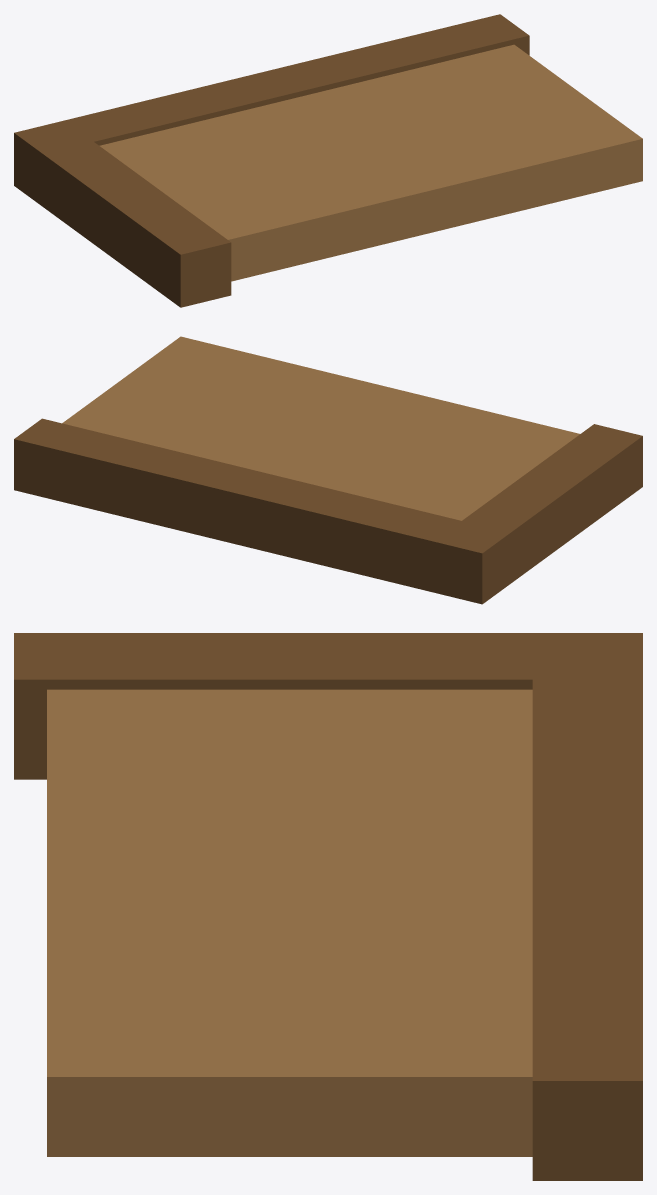
The model's file is poi_tagged_crate_piece_c.glb.
The picture shows the model from 3 angles, top to bottom: view 1: azimuth 30°, elevation 25°; view 2: azimuth 150°, elevation 25°; view 3: azimuth 270°, elevation 25°; orthographic projection. The views are drawn at different scales.
Parts seen in each view (by area): view 1: TaggedCratePieceC; view 2: TaggedCratePieceC; view 3: TaggedCratePieceC.
Boxes of the visible parts, x1=… form: TaggedCratePieceC: x1=14, y1=14, x2=642, y2=307; TaggedCratePieceC: x1=14, y1=336, x2=642, y2=604; TaggedCratePieceC: x1=14, y1=633, x2=642, y2=1180.
Bounding box in the file's own units: 0.96 × 0.1 × 0.57.
